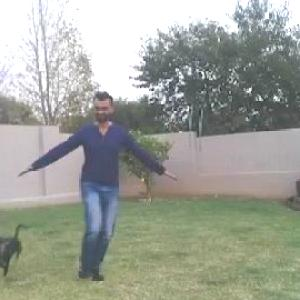land: (23, 100, 181, 274)
